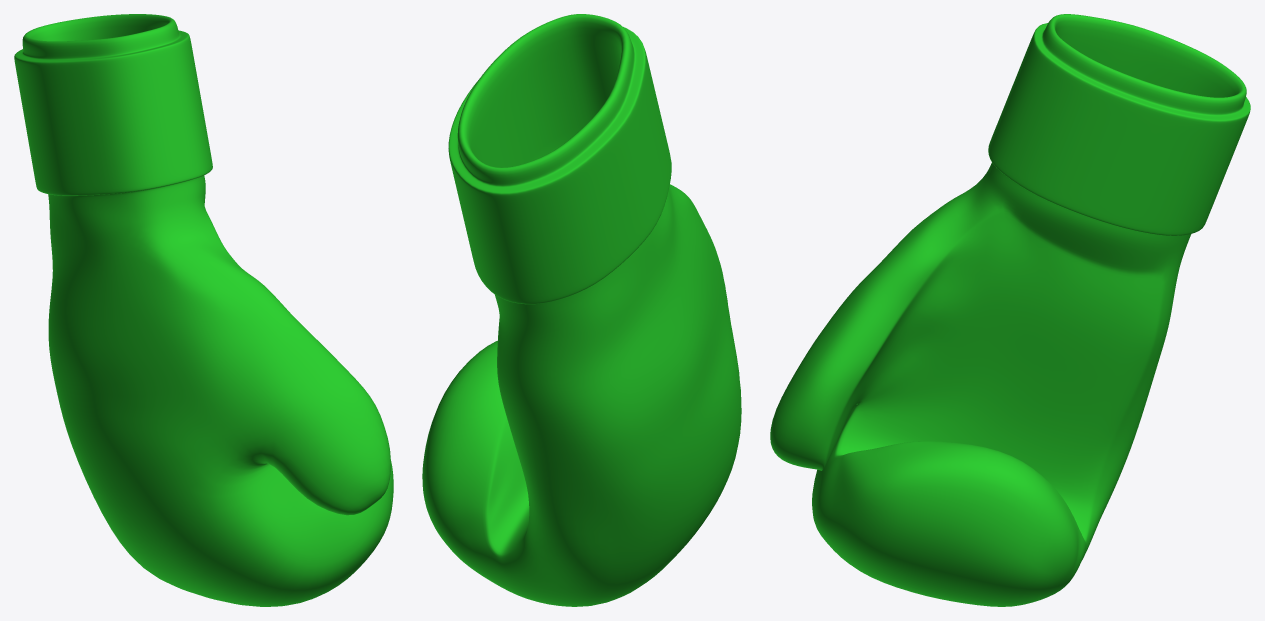
File: luvaBox1.glb
3 renders of one model, left to right at view 1: azimuth 30°, elevation 25°; view 2: azimuth 150°, elevation 25°; view 3: azimuth 270°, elevation 25°, orthographic. The views are drawn at different scales.
Visible parts, largest first — view 1: 10493_Leather_Boxing_Gloves_V1_L3; view 2: 10493_Leather_Boxing_Gloves_V1_L3; view 3: 10493_Leather_Boxing_Gloves_V1_L3.
Part boxes in pixels (x1=…): 10493_Leather_Boxing_Gloves_V1_L3: x1=14, y1=14, x2=393, y2=606; 10493_Leather_Boxing_Gloves_V1_L3: x1=422, y1=14, x2=741, y2=606; 10493_Leather_Boxing_Gloves_V1_L3: x1=770, y1=14, x2=1250, y2=606.
Size of the model in its own units: 0.1638 by 0.345 by 0.279.
